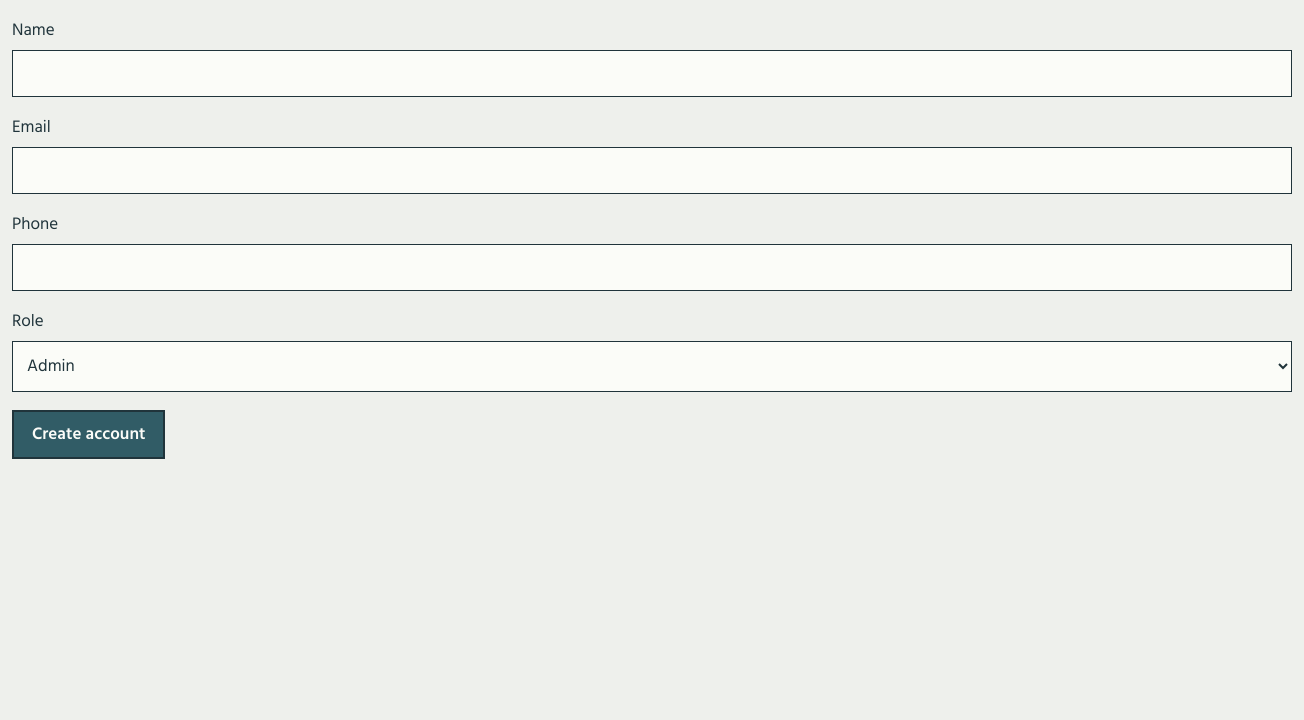
user management interfaces › shows unit assignment only for residents and excludes inactive units
Expected: the field labelled "Unit" is not shown
Select "Resident" in the dropdown labelled "Role": (652, 366) [12,340,1292,392]
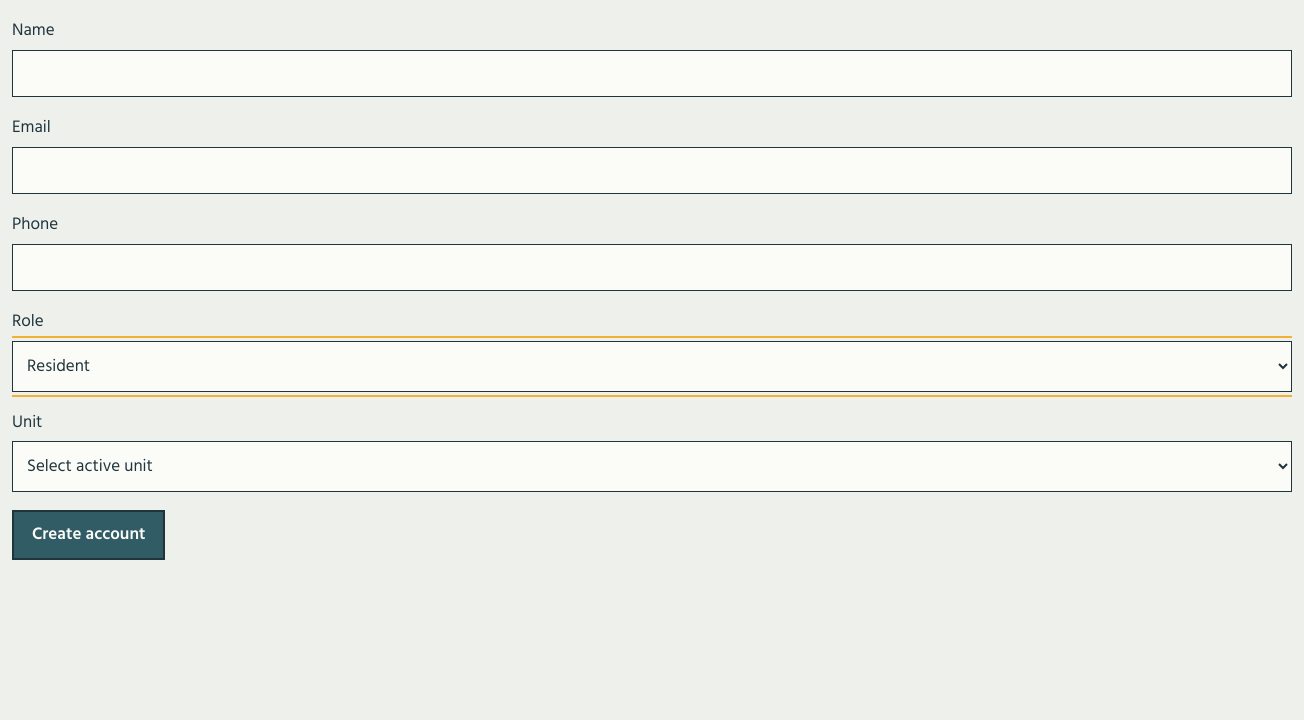
Expected: the dropdown labelled "Unit" is shown, [12,441,1292,492]
